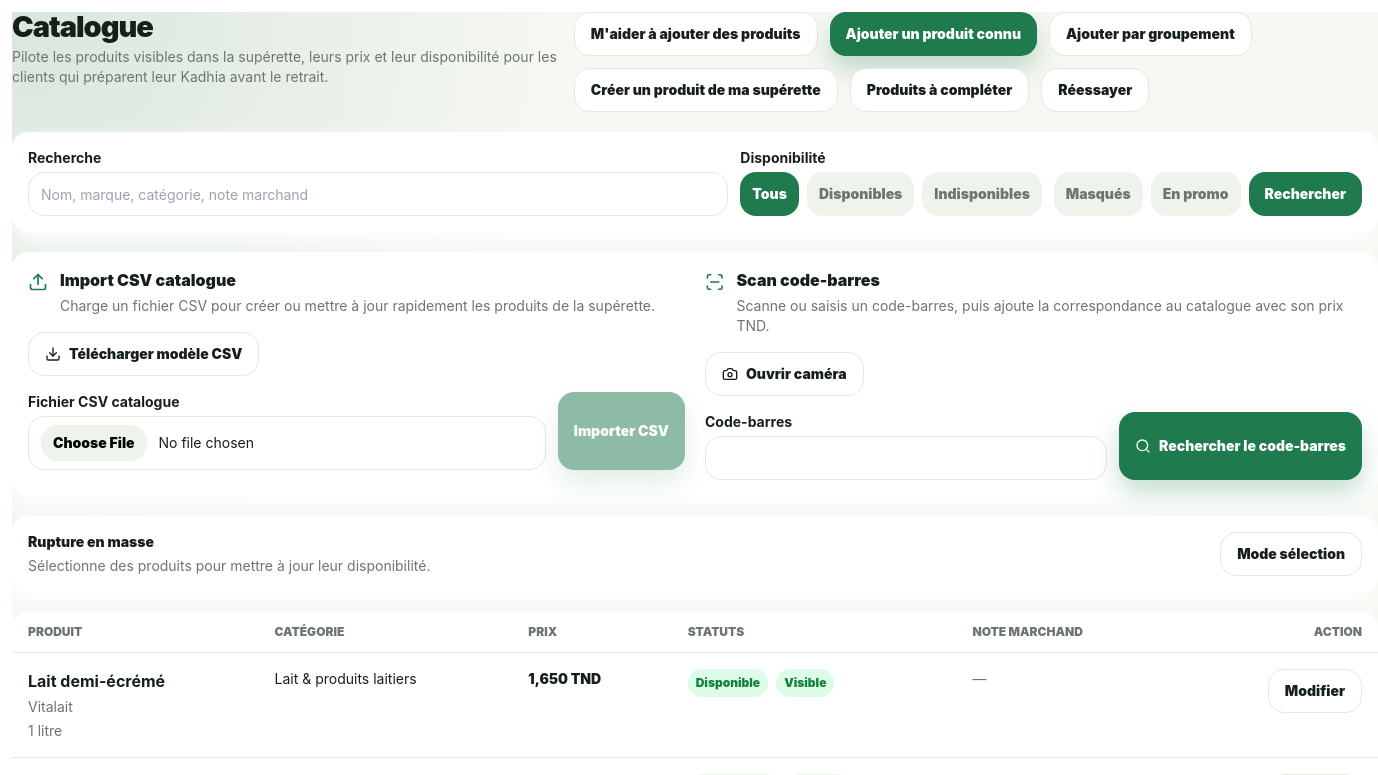
Test: MerchantCatalogPage › filters active promotions from the merchant catalogue
Expected: the text "Lait demi-écrémé" is shown, [28,671,165,691]
Click the button "En promo": (1196, 194) [1151,172,1240,216]
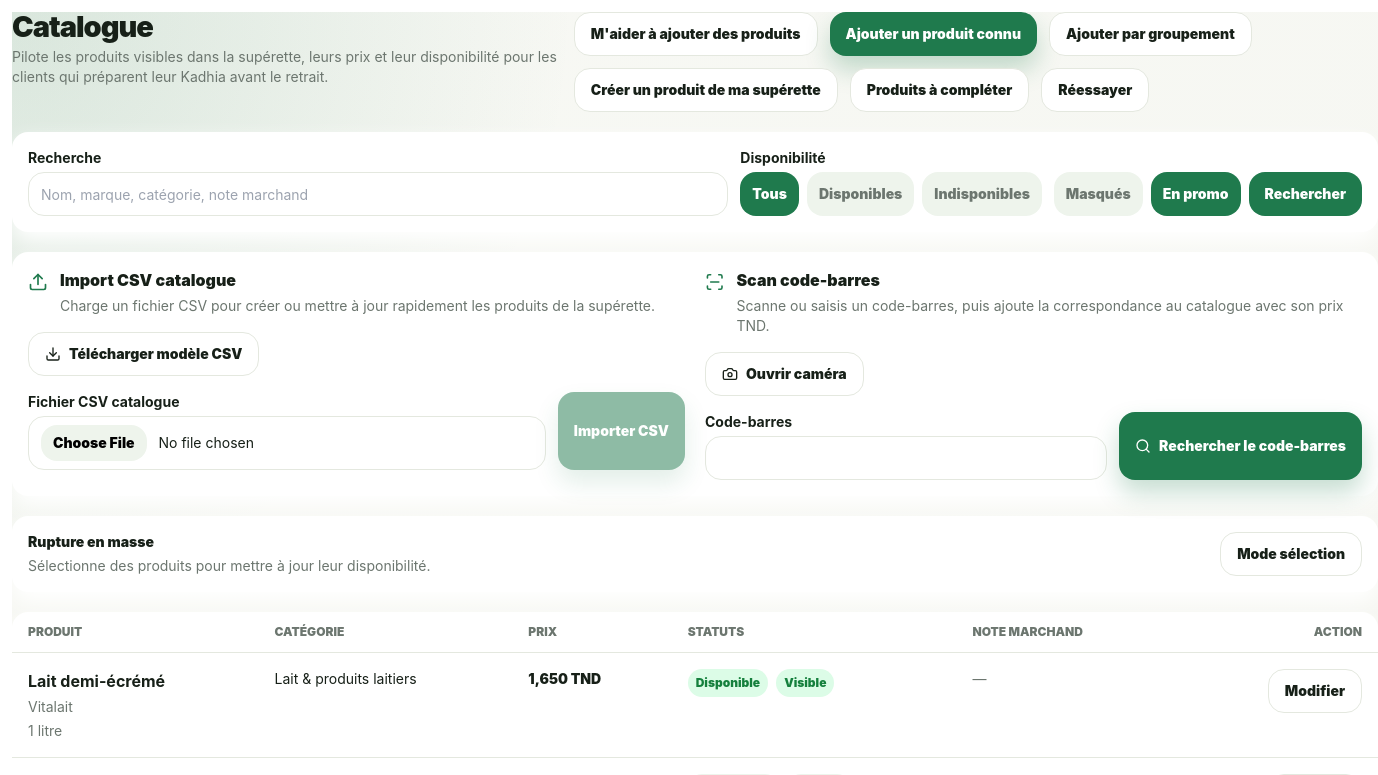
Click the button "Rechercher": (1305, 194) [1248,172,1362,216]
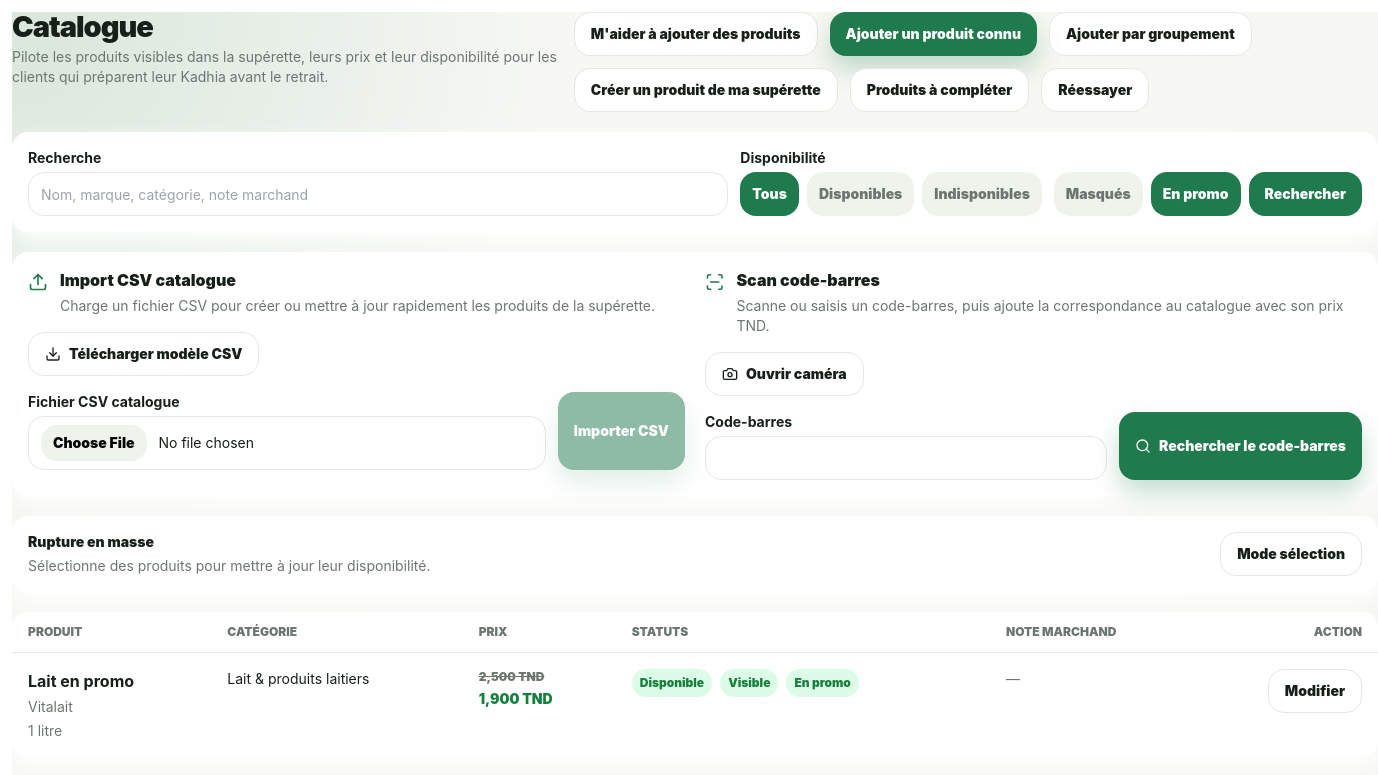
Expected: the text "Lait en promo" is shown, [28,671,134,691]
